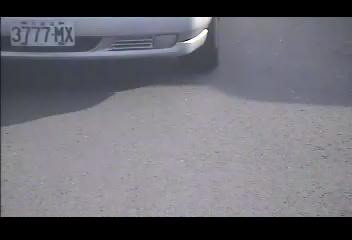plate: (8, 18, 77, 48)
